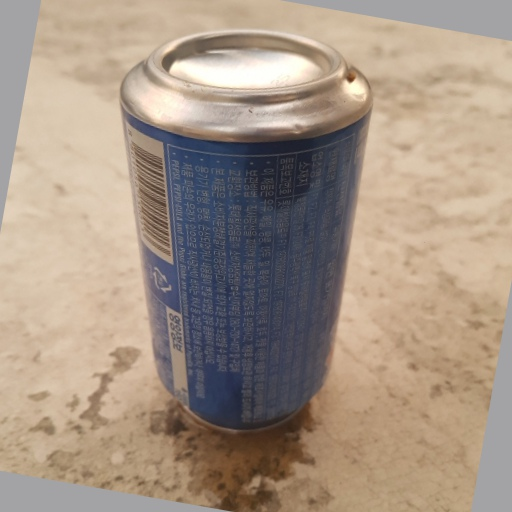Metal_0: (119, 27, 375, 439)
